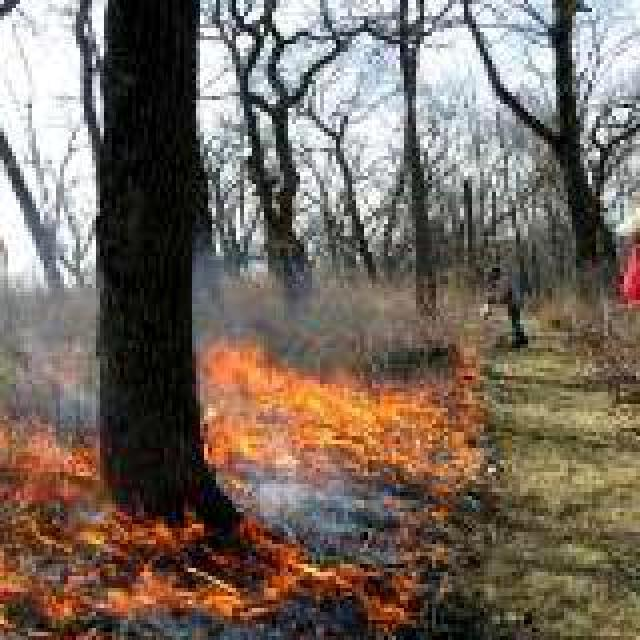fire: (0, 336, 476, 632)
